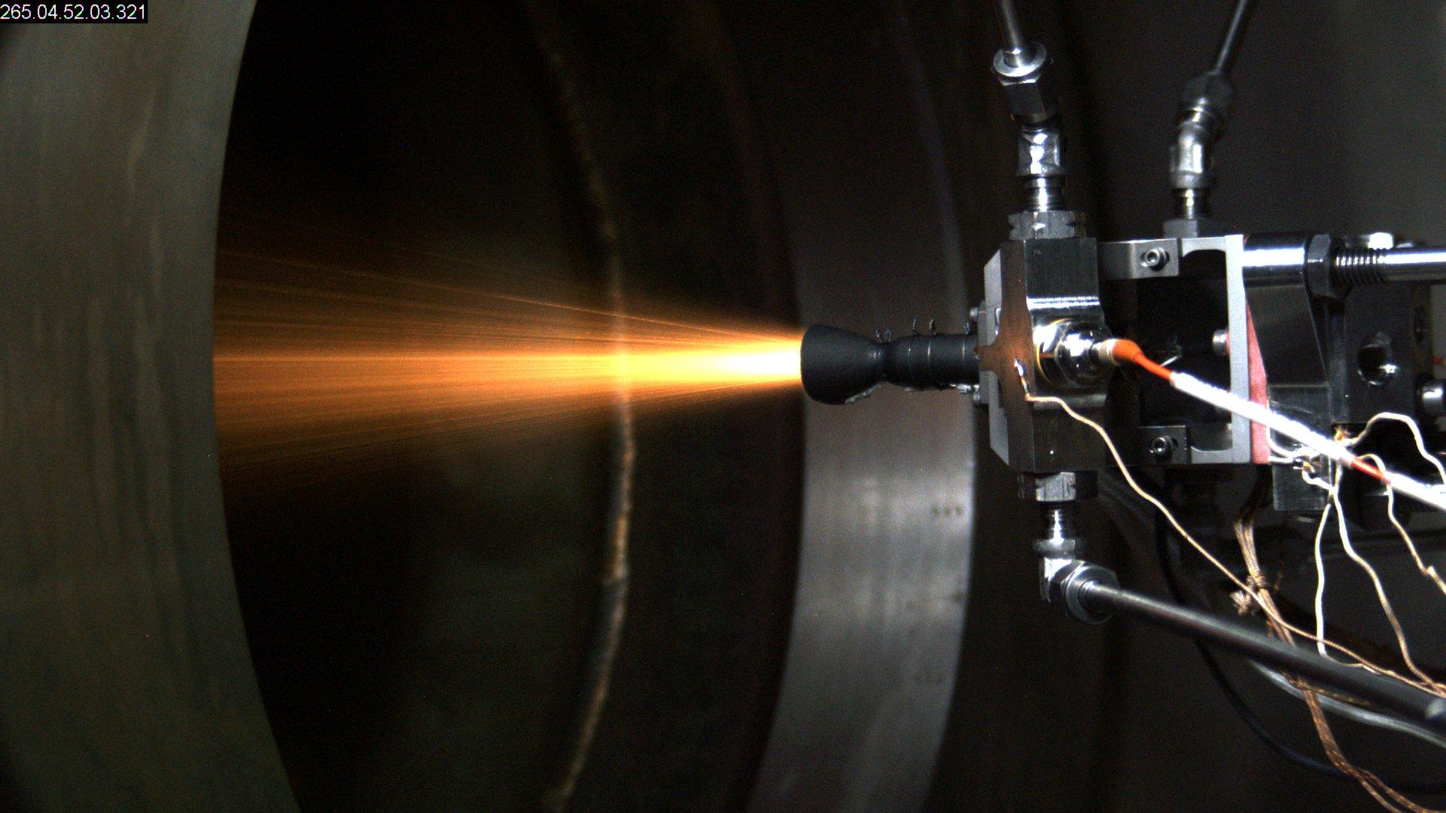thruster: (795, 321, 895, 414)
